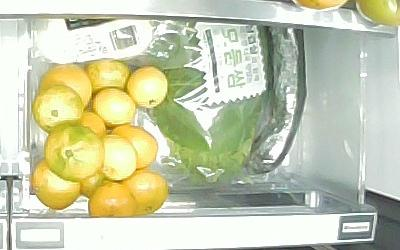tangerine: (44, 125, 104, 182), (31, 159, 79, 210), (32, 85, 82, 133), (40, 64, 91, 111), (111, 123, 158, 168), (123, 173, 169, 217), (126, 66, 168, 109), (100, 134, 137, 182), (92, 89, 135, 128), (88, 183, 136, 217), (86, 60, 130, 91)
